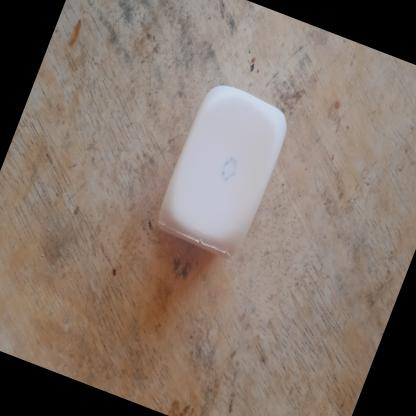Cube: (146, 74, 298, 268)
